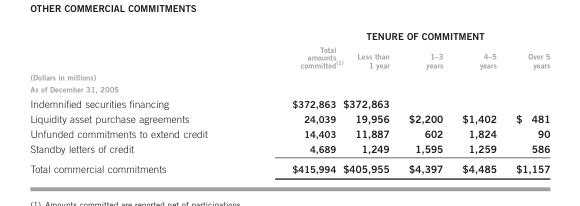table: (29, 29, 549, 174)
table column: (29, 29, 249, 174), (249, 29, 342, 174), (342, 29, 398, 174), (451, 29, 505, 174), (398, 29, 451, 174), (505, 29, 549, 174)
table column header: (29, 29, 549, 70)
table projected row header: (29, 82, 549, 95), (29, 70, 549, 82)
table row: (29, 42, 549, 70), (29, 140, 549, 158), (29, 158, 549, 174), (29, 95, 549, 110), (29, 110, 549, 125), (29, 125, 549, 140), (29, 29, 549, 42), (29, 82, 549, 95), (29, 70, 549, 82)
table spanning cell: (249, 29, 549, 42)
